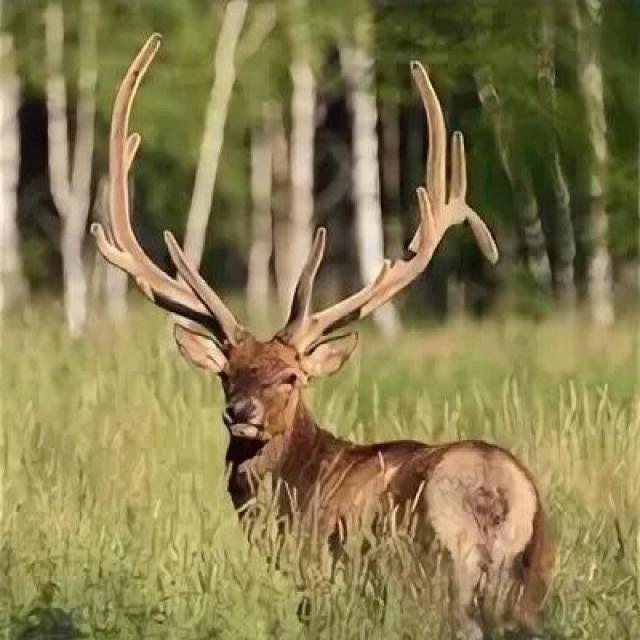deer: (19, 69, 640, 640)
